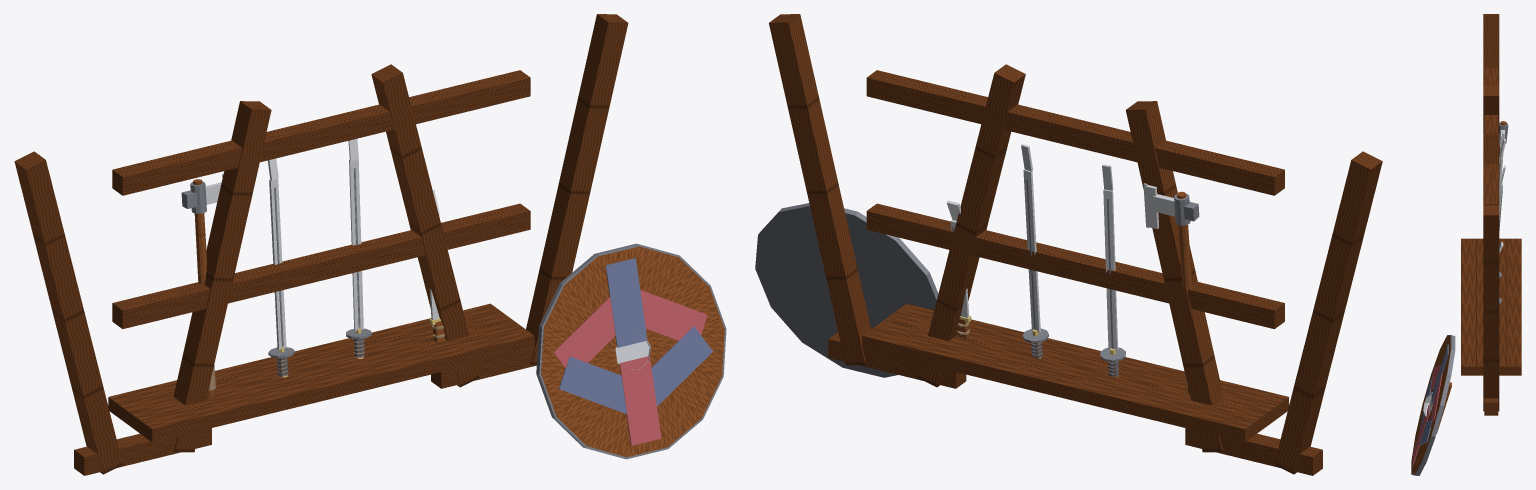
File: legendary-warriors-kit-dressed-weapon-rack-6f341489__39220.glb
3 views of the same model, side by side, from view 1: azimuth 30°, elevation 25°; view 2: azimuth 150°, elevation 25°; view 3: azimuth 270°, elevation 25° (orthographic). The views are drawn at different scales.
Visible parts, largest first — view 1: dressed-weapon-rack; view 2: dressed-weapon-rack; view 3: dressed-weapon-rack.
Part boxes in pixels (left/top/right/bottom): dressed-weapon-rack: left=14, top=14, right=726, bottom=475; dressed-weapon-rack: left=755, top=14, right=1382, bottom=475; dressed-weapon-rack: left=1411, top=14, right=1521, bottom=475.
Bounding box in the file's own units: 2.6 × 1.47 × 0.546.
Materials: 9 (2 with a texture image).
